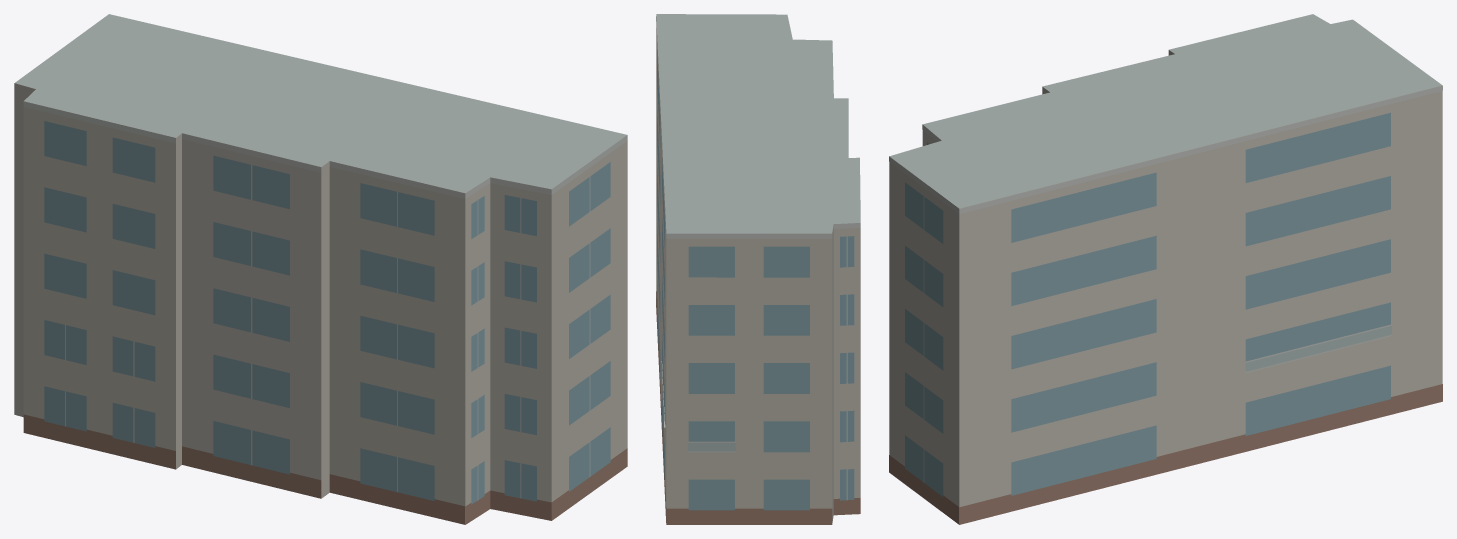
File: survey-upis-32756126.glb
3 views of the same model, side by side, from view 1: azimuth 30°, elevation 25°; view 2: azimuth 150°, elevation 25°; view 3: azimuth 270°, elevation 25° (orthographic). The views are drawn at different scales.
Parts seen in each view (by area): view 1: survey-upis-32756126.tmp; view 2: survey-upis-32756126.tmp; view 3: survey-upis-32756126.tmp.
Part boxes in pixels (<box>): survey-upis-32756126.tmp: <box>14,14,627,524</box>; survey-upis-32756126.tmp: <box>656,14,860,524</box>; survey-upis-32756126.tmp: <box>889,14,1442,524</box>.
Size of the model in its own units: 18.9 by 14.3 by 22.7.
